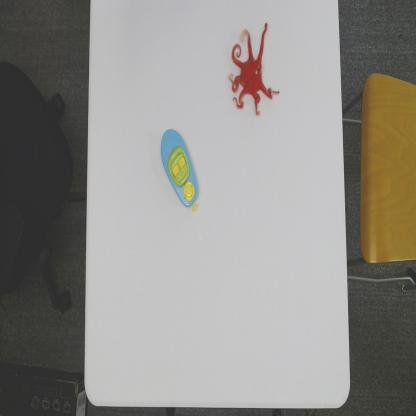Octopus: (228, 21, 282, 118), (158, 126, 204, 214)
